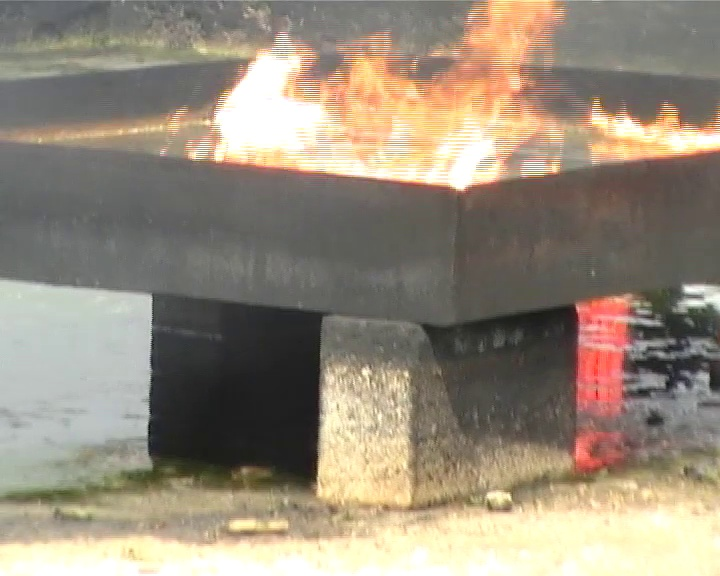fire: (206, 1, 566, 186), (589, 99, 717, 152)
